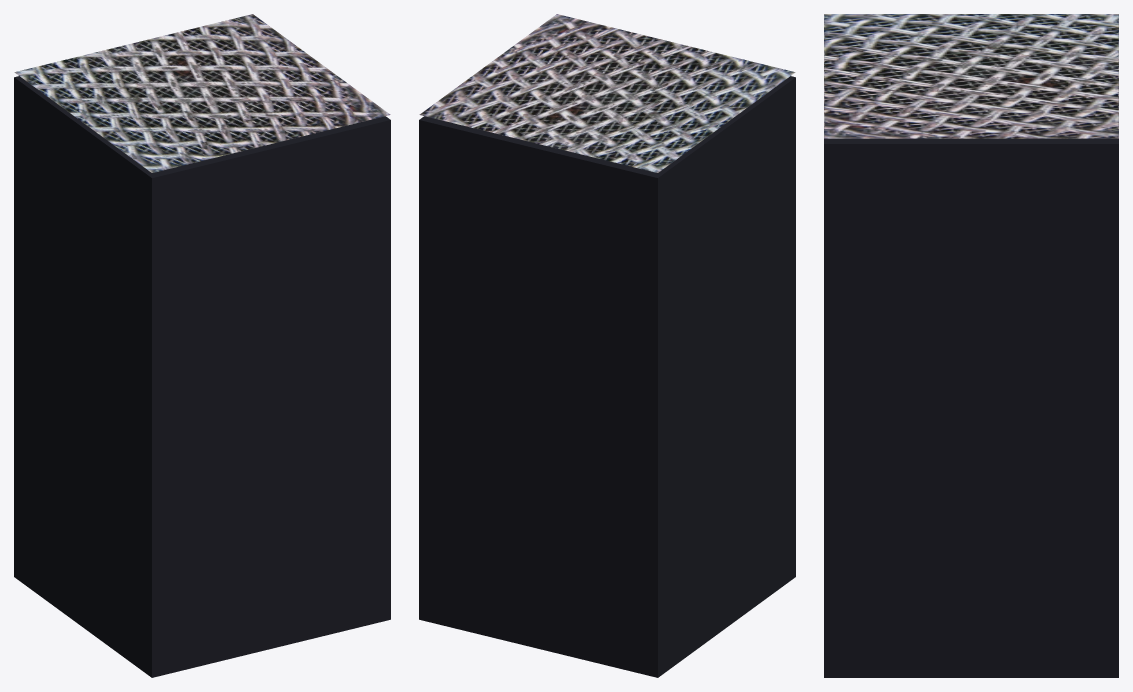
Rendered from microphone.obj.
3 renders of one model, left to right at view 1: azimuth 30°, elevation 25°; view 2: azimuth 150°, elevation 25°; view 3: azimuth 270°, elevation 25°, orthographic. The views are drawn at different scales.
Parts seen in each view (by area): view 1: Microphone1, Microphone2; view 2: Microphone1, Microphone2; view 3: Microphone1, Microphone2.
Boxes of the visible parts, <box> form: Microphone1: <box>14,76,390,677</box>; Microphone2: <box>14,14,390,172</box>; Microphone1: <box>419,76,795,677</box>; Microphone2: <box>419,14,795,172</box>; Microphone1: <box>824,138,1118,677</box>; Microphone2: <box>824,14,1118,138</box>.
Size of the model in its own units: 1 by 2.02 by 1.
Materials: 2 (1 with a texture image).
